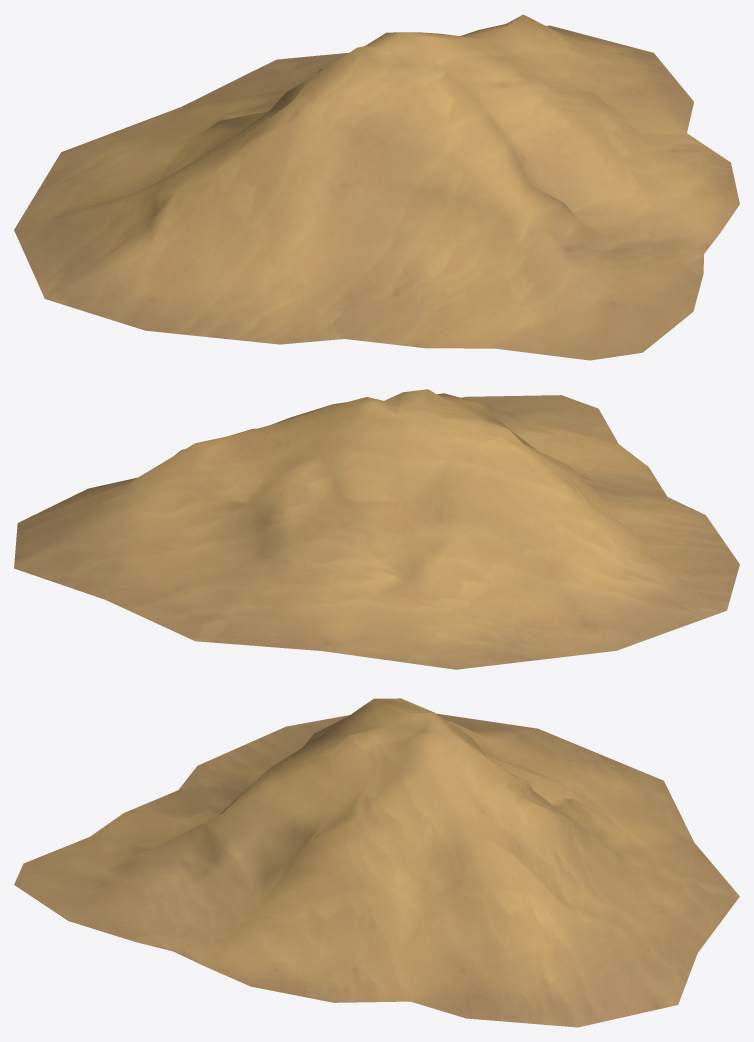
The model's file is Area_11_9.fbx.
3 views of the same model, one above another, from view 1: azimuth 30°, elevation 25°; view 2: azimuth 150°, elevation 25°; view 3: azimuth 270°, elevation 25° (orthographic). The views are drawn at different scales.
Visible parts, largest first — view 1: Area_11_9; view 2: Area_11_9; view 3: Area_11_9.
Boxes of the visible parts, x1,y1,x2,y2 form: Area_11_9: (14, 14, 739, 360); Area_11_9: (14, 389, 739, 669); Area_11_9: (14, 698, 739, 1027).
Size of the model in its own units: 1243 by 266 by 1191.
Materials: 1 (1 with a texture image).
